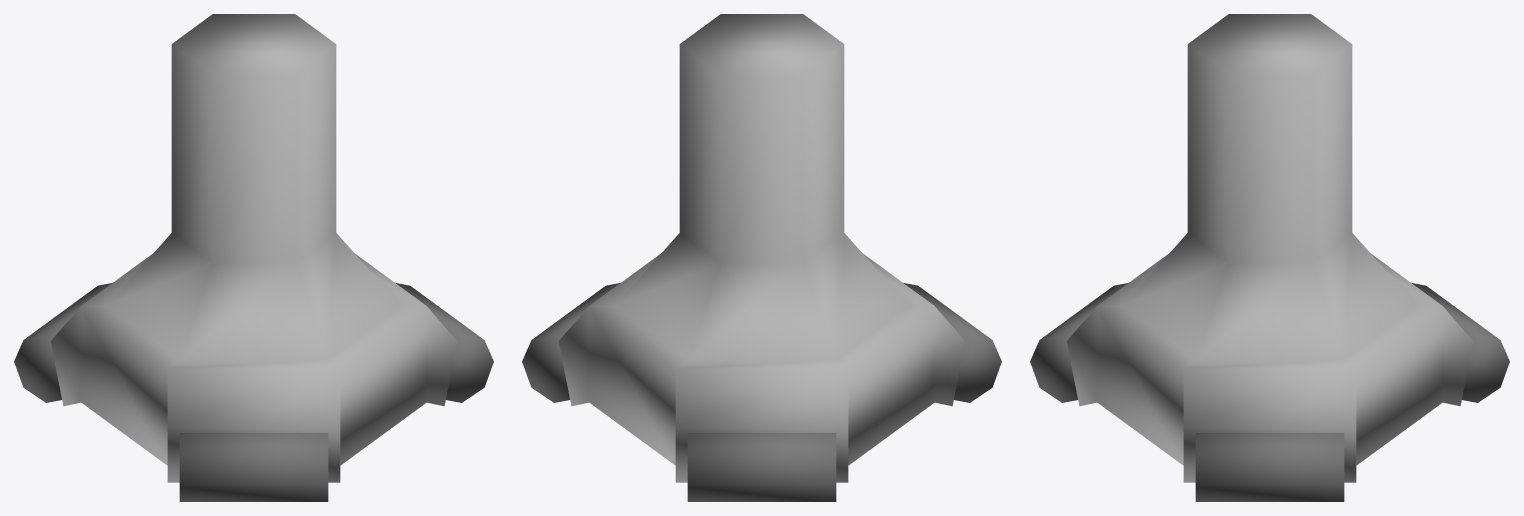
File: RobotArm.fbx
3 renders of one model, left to right at view 1: azimuth 30°, elevation 25°; view 2: azimuth 150°, elevation 25°; view 3: azimuth 270°, elevation 25°, orthographic.
Visible parts, largest first — view 1: main; view 2: main; view 3: main.
Part boxes in pixels (x1,y1,x2,y2): main: (14,14,493,501); main: (522,14,1001,501); main: (1030,14,1509,501).
Bounding box in the file's own units: 14.1 × 13.97 × 16.28.
